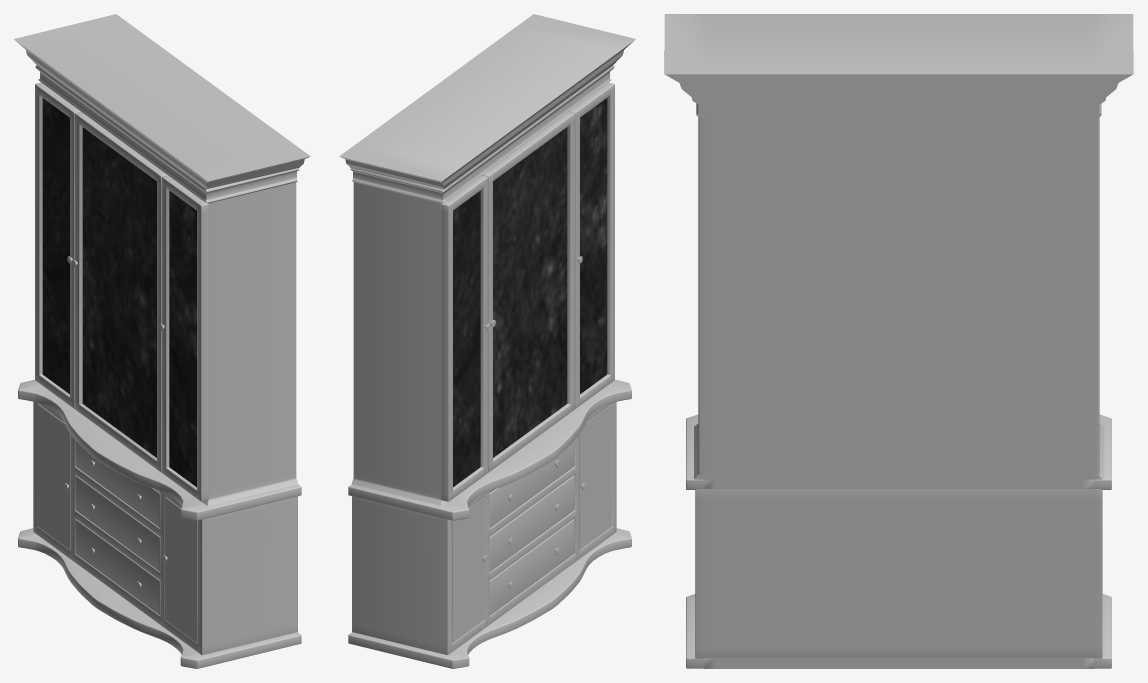
File: SM_Vintage_Bar_Display_Cabinet.fbx
The picture shows the model from 3 angles, left to right: view 1: azimuth 30°, elevation 25°; view 2: azimuth 150°, elevation 25°; view 3: azimuth 270°, elevation 25°; orthographic projection. The views are drawn at different scales.
Visible parts, largest first — view 1: SM_Vintage_Bar_Display_Cabinet; view 2: SM_Vintage_Bar_Display_Cabinet; view 3: SM_Vintage_Bar_Display_Cabinet.
Part boxes in pixels (x1=…): SM_Vintage_Bar_Display_Cabinet: x1=14, y1=14, x2=310, y2=668; SM_Vintage_Bar_Display_Cabinet: x1=339, y1=14, x2=635, y2=668; SM_Vintage_Bar_Display_Cabinet: x1=664, y1=14, x2=1133, y2=668.
Bounding box in the file's own units: 63.68 × 182 × 254.
